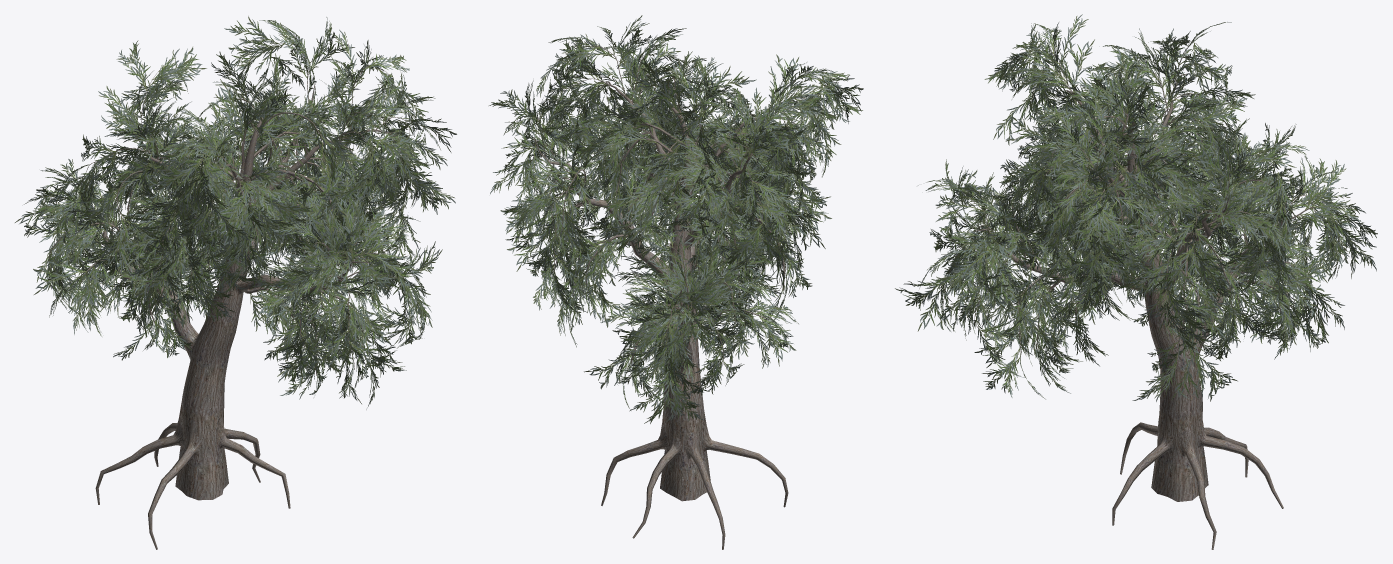
The model's file is saule-2.glb.
3 views of the same model, side by side, from view 1: azimuth 30°, elevation 25°; view 2: azimuth 150°, elevation 25°; view 3: azimuth 270°, elevation 25° (orthographic). The views are drawn at different scales.
Parts seen in each view (by area): view 1: SilverWillow_LOD0; view 2: SilverWillow_LOD0; view 3: SilverWillow_LOD0.
Boxes of the visible parts, x1,y1,x2,y2 form: SilverWillow_LOD0: [15, 16, 456, 549]; SilverWillow_LOD0: [489, 15, 863, 549]; SilverWillow_LOD0: [895, 14, 1377, 549].
Size of the model in its own units: 11.58 by 15.2 by 14.
Materials: 2 (2 with a texture image).
